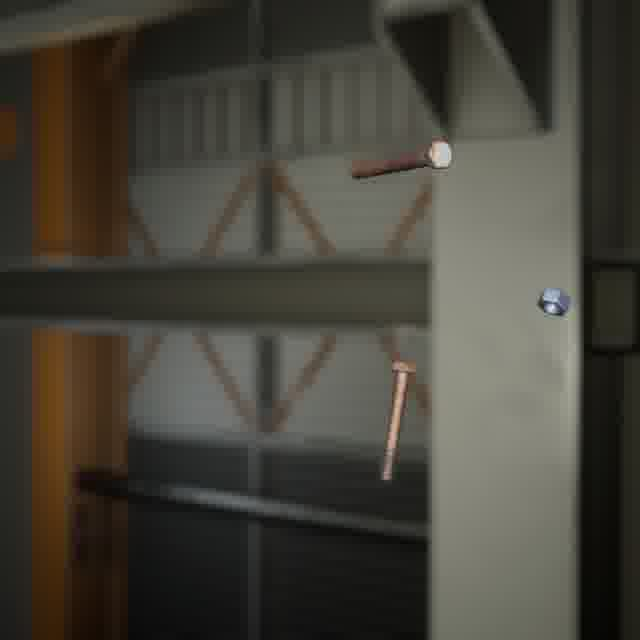bolt: (375, 356, 420, 486), (344, 136, 457, 183)
nut: (532, 284, 575, 320)
